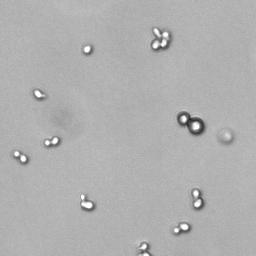budding: (168, 218, 195, 238), (189, 186, 206, 212), (39, 130, 62, 148), (12, 148, 29, 167), (79, 193, 96, 211), (134, 238, 151, 256), (30, 86, 48, 101)
cluster: (147, 23, 172, 54)
contamination: (174, 108, 209, 136)
individual: (81, 42, 94, 58)
